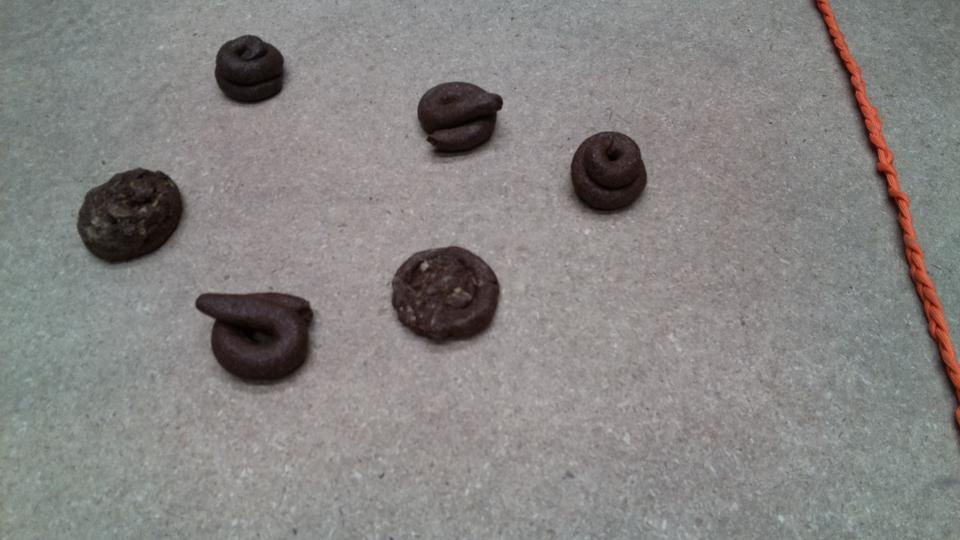poop: (194, 285, 318, 388), (386, 242, 502, 348), (74, 164, 186, 270), (566, 127, 651, 217), (415, 78, 505, 159), (212, 31, 287, 108)
rope: (813, 1, 959, 430)
